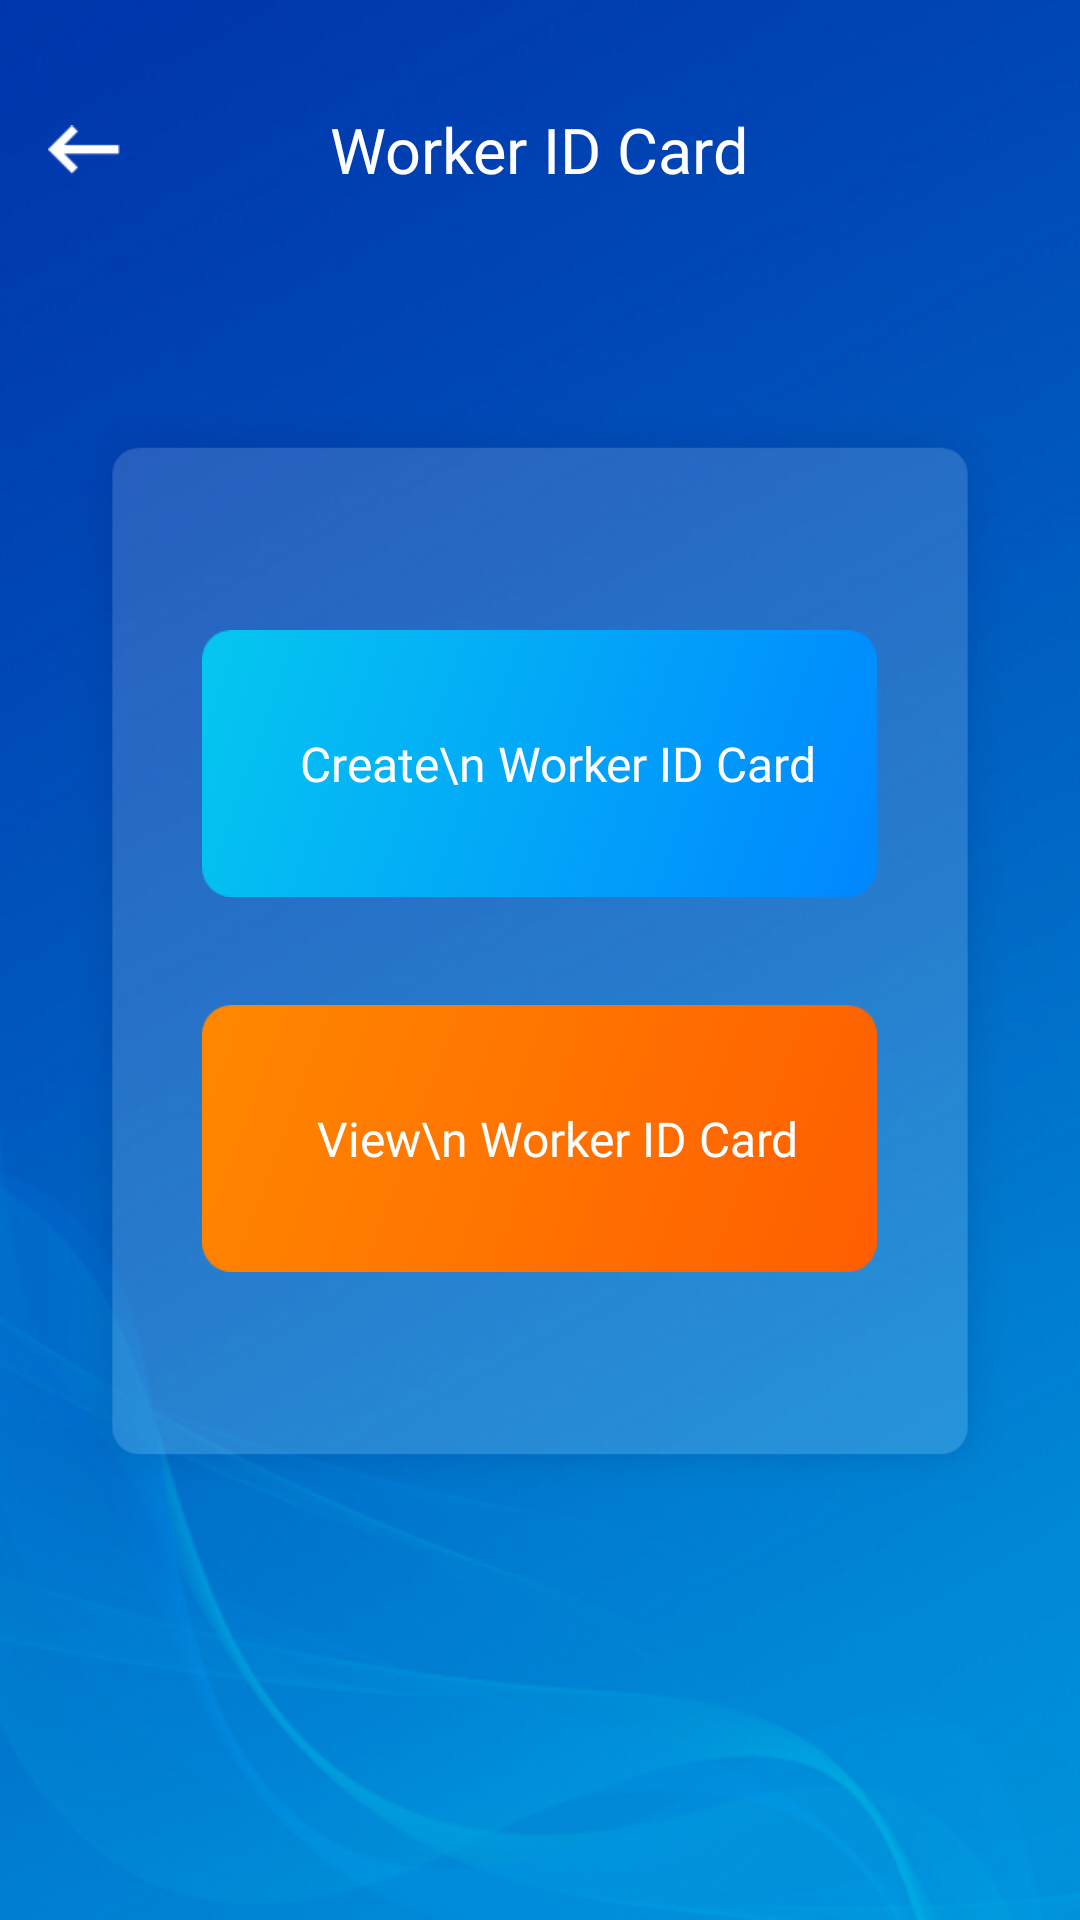

Named icons in this screenshot (1080px×1920px) and their bounding boxes, (x1=x1, y1=y1, x2=x2, y2=y2):
backbtn: (x1=48, y1=125, x2=120, y2=174)
